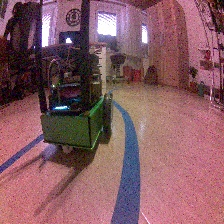rob: (40, 54, 115, 155)
